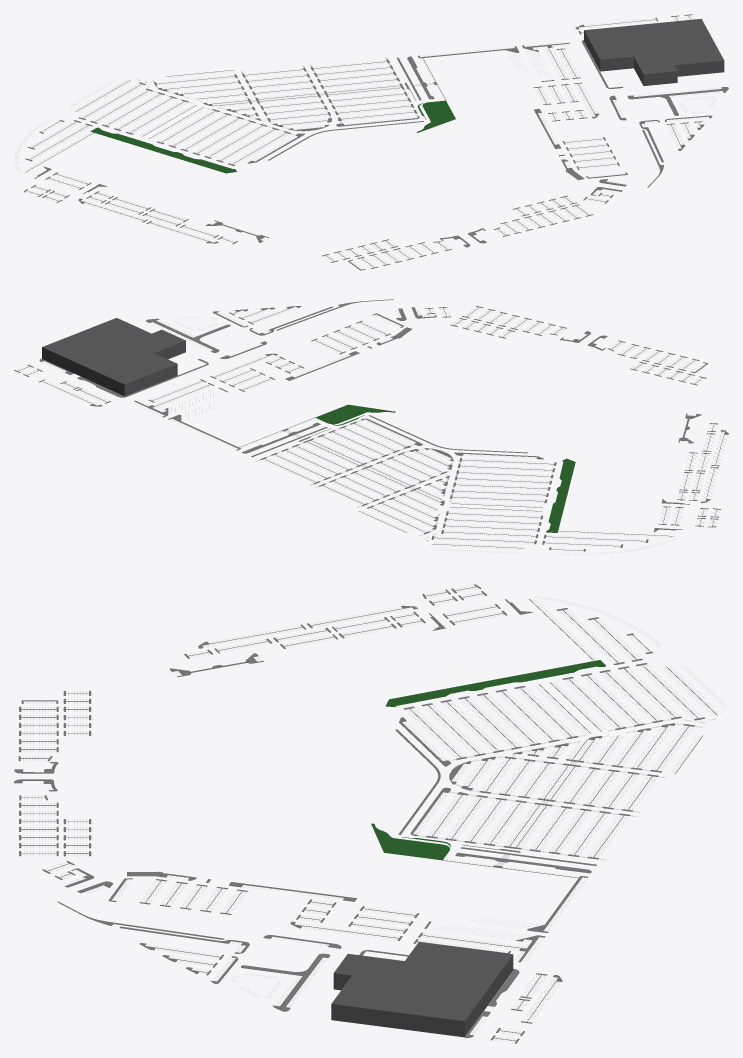
The picture shows the model from 3 angles, top to bottom: view 1: azimuth 30°, elevation 25°; view 2: azimuth 150°, elevation 25°; view 3: azimuth 270°, elevation 25°; orthographic projection. The views are drawn at different scales.
Parts seen in each view (by area): view 1: Parking, Object001; view 2: Parking, Object001; view 3: Parking, Object001.
Part boxes in pixels (bbox=[...]): Parking: bbox=[309, 14, 728, 270]; Object001: bbox=[14, 65, 423, 244]; Parking: bbox=[14, 299, 708, 485]; Object001: bbox=[315, 413, 728, 555]; Parking: bbox=[14, 690, 636, 1043]; Object001: bbox=[169, 584, 727, 834].
Size of the model in its own units: 6.76 by 0.112 by 4.45.
